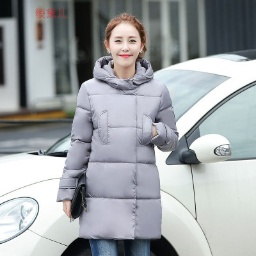face: (102, 13, 149, 71)
